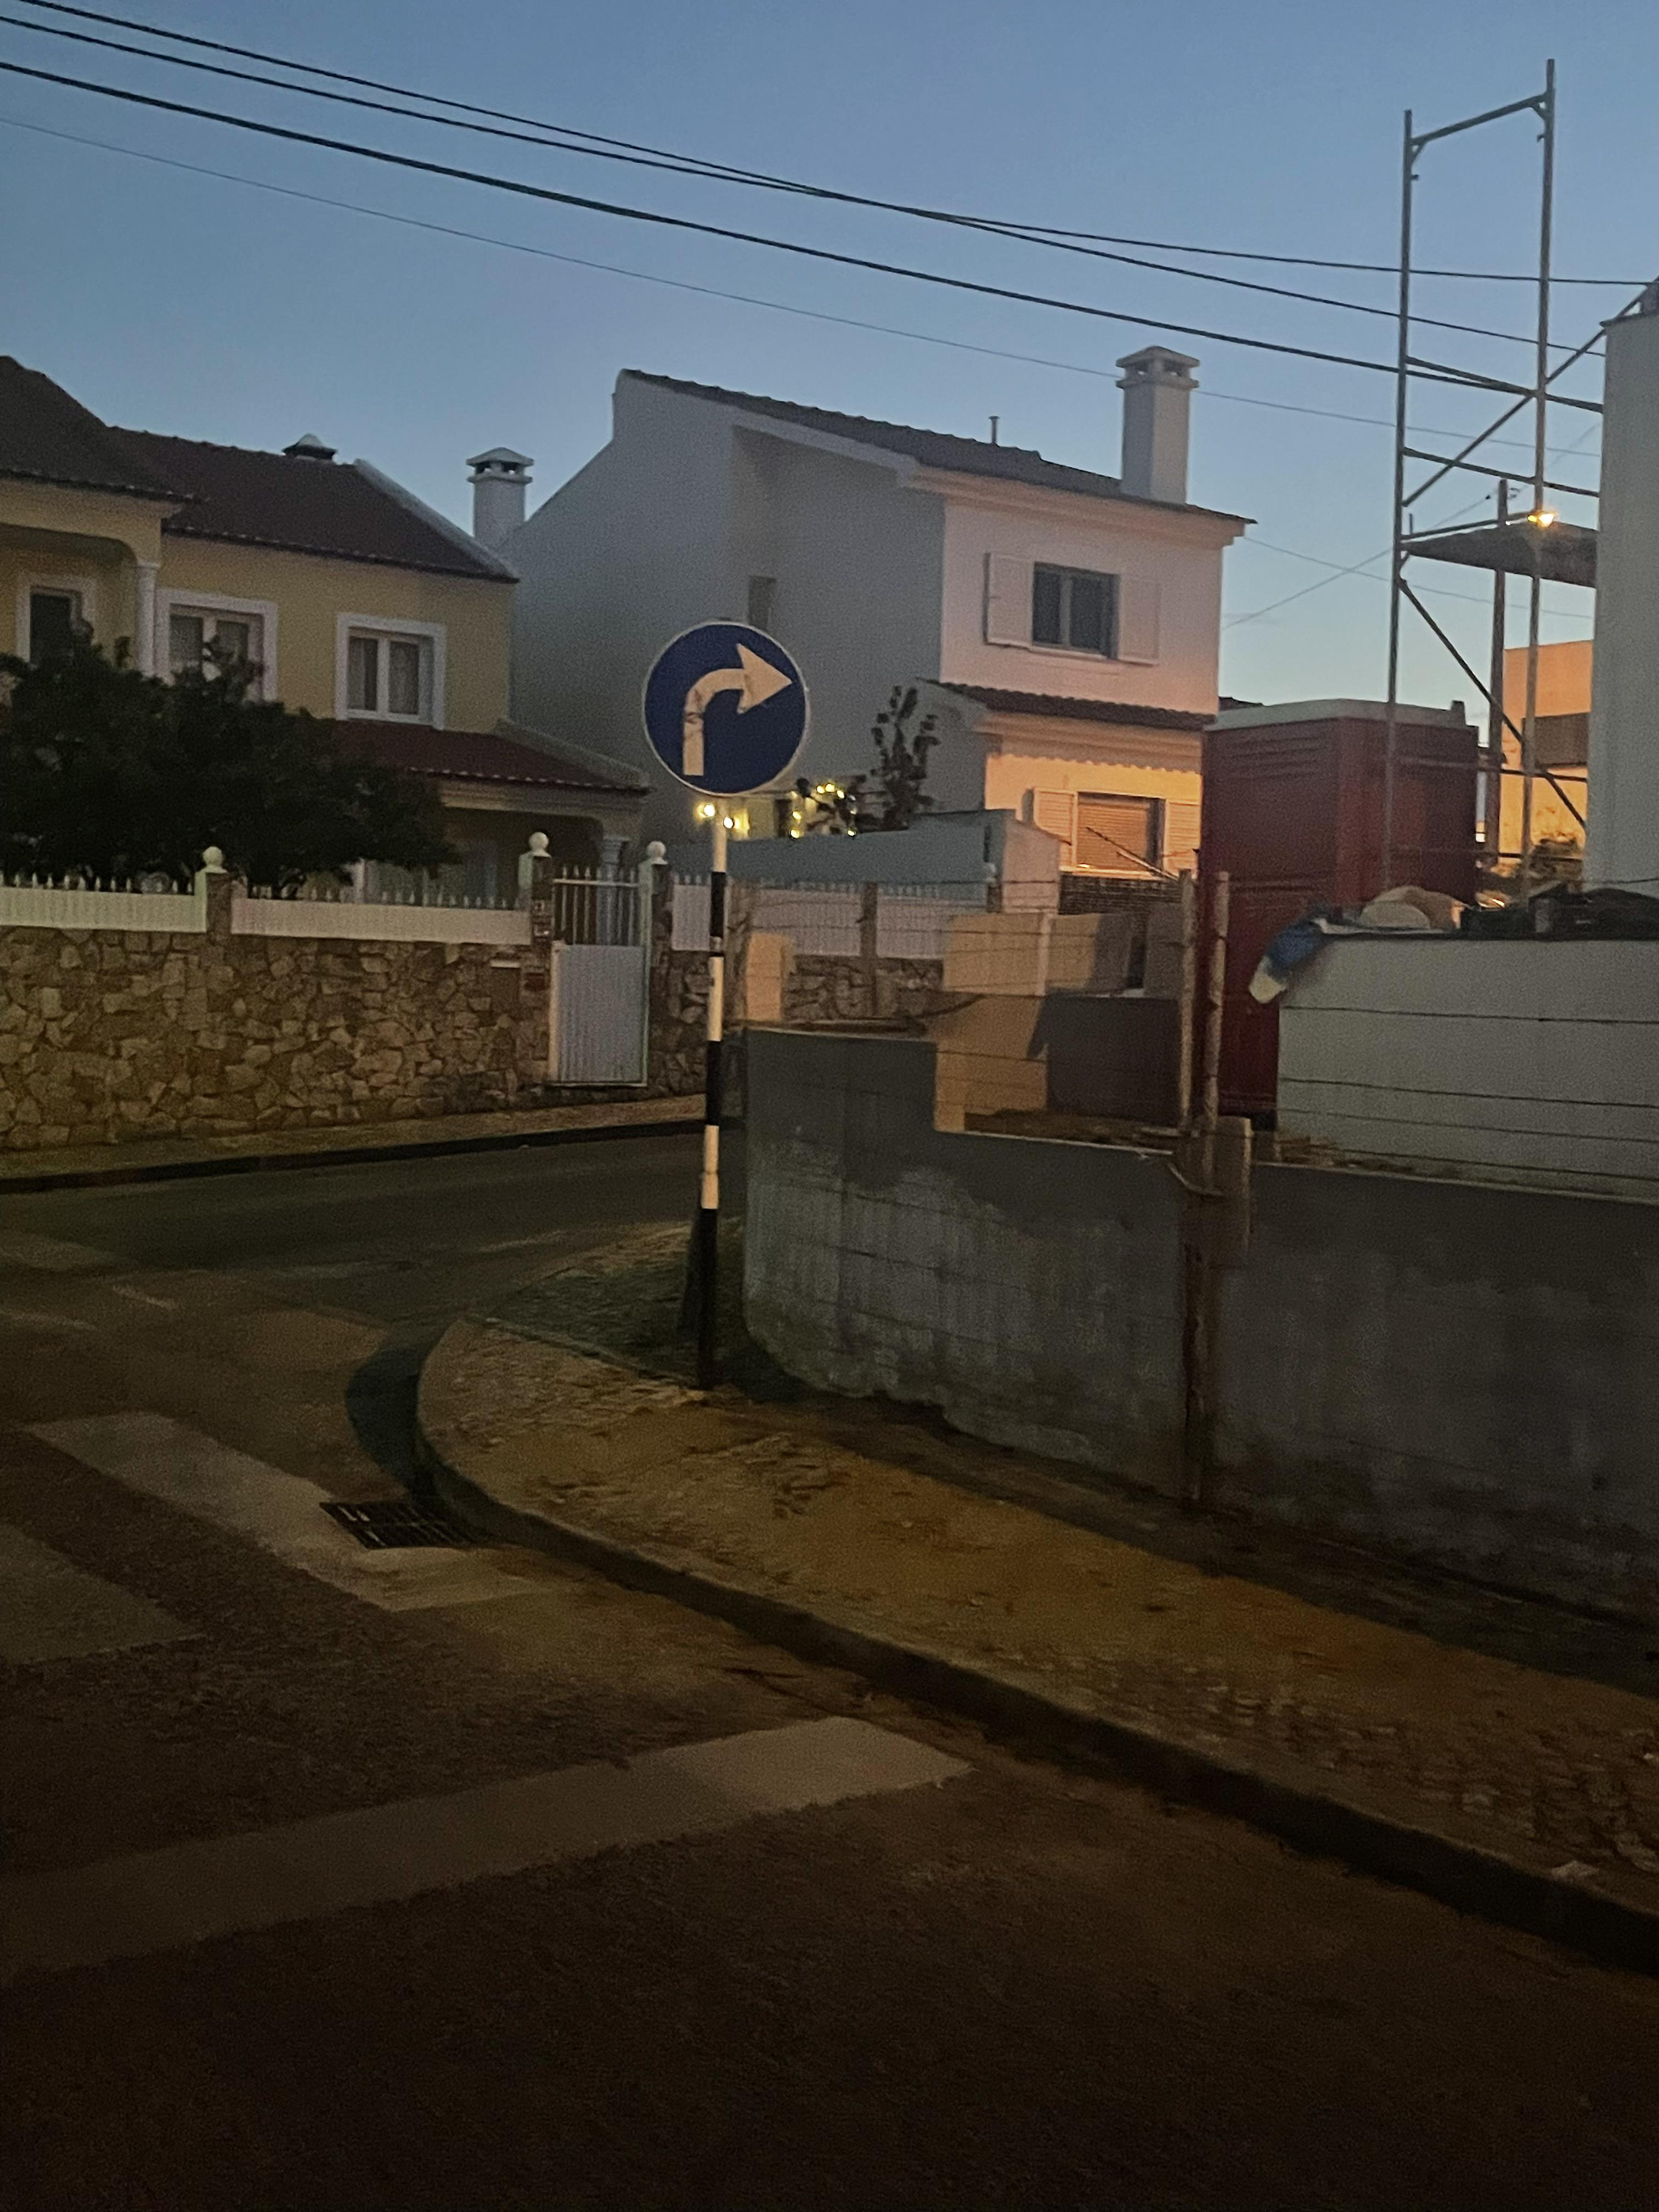Sentido obrigatorio: (636, 615, 820, 806)
